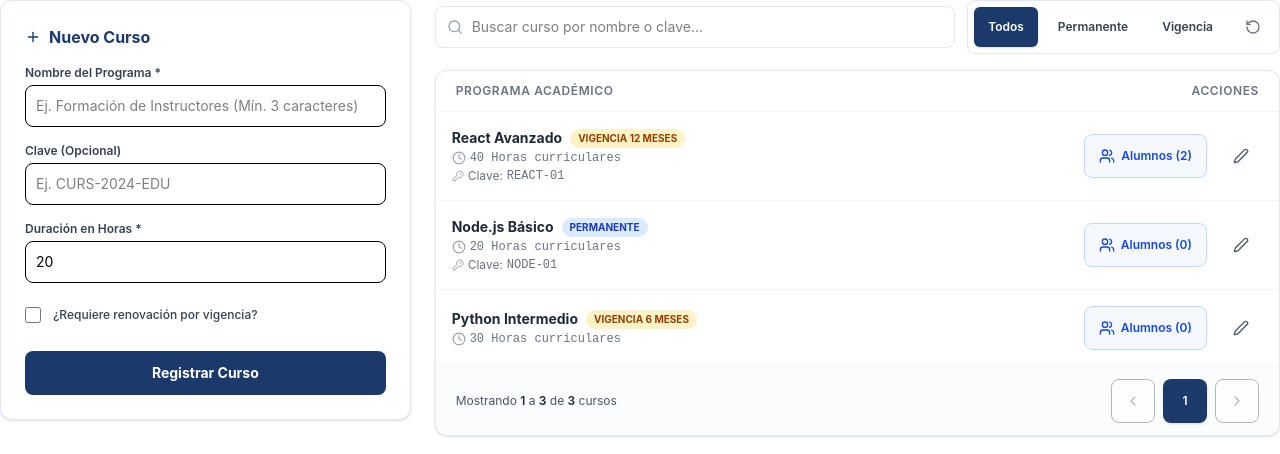
ModuloCursos › listado y filtros › el botón de limpiar filtros restablece búsqueda y filtro de vigencia
In the search field named "buscar cursos": (695, 27) [435,6,955,48], type "python"
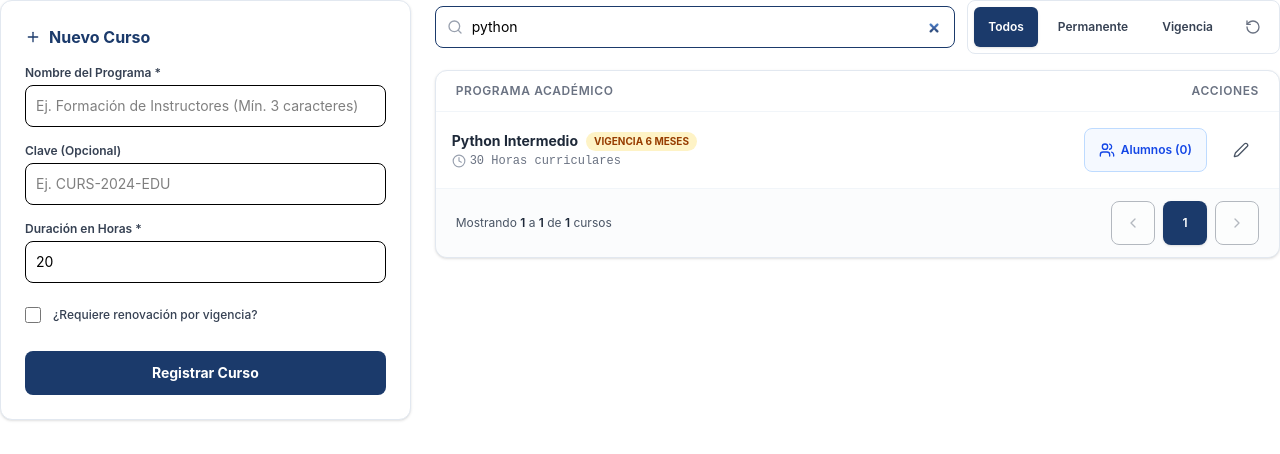
Click the button "vigencia": (1188, 27) [1148,7,1227,47]
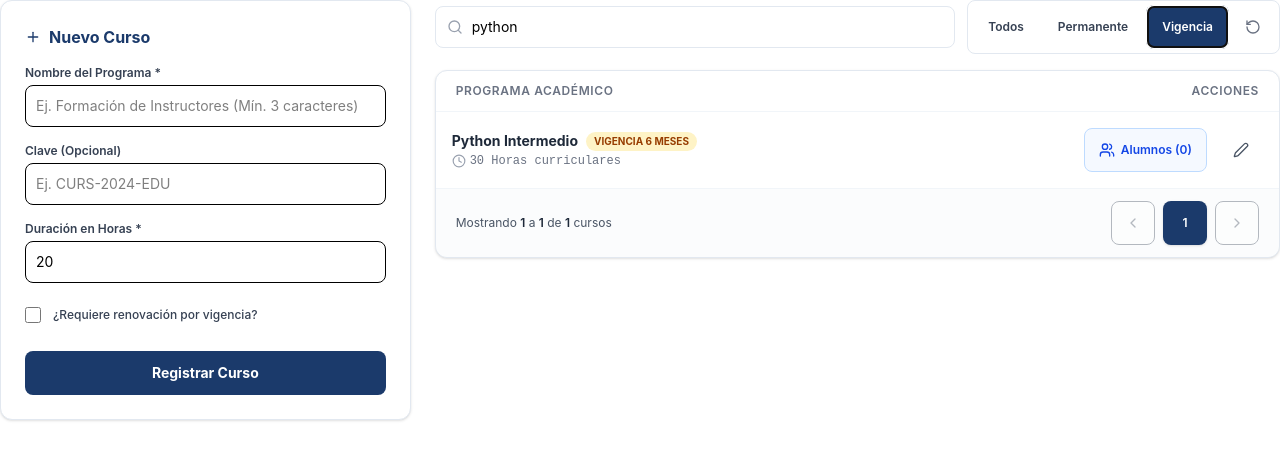
Click the button named "limpiar filtros de cursos": (1253, 27) [1233,7,1273,47]
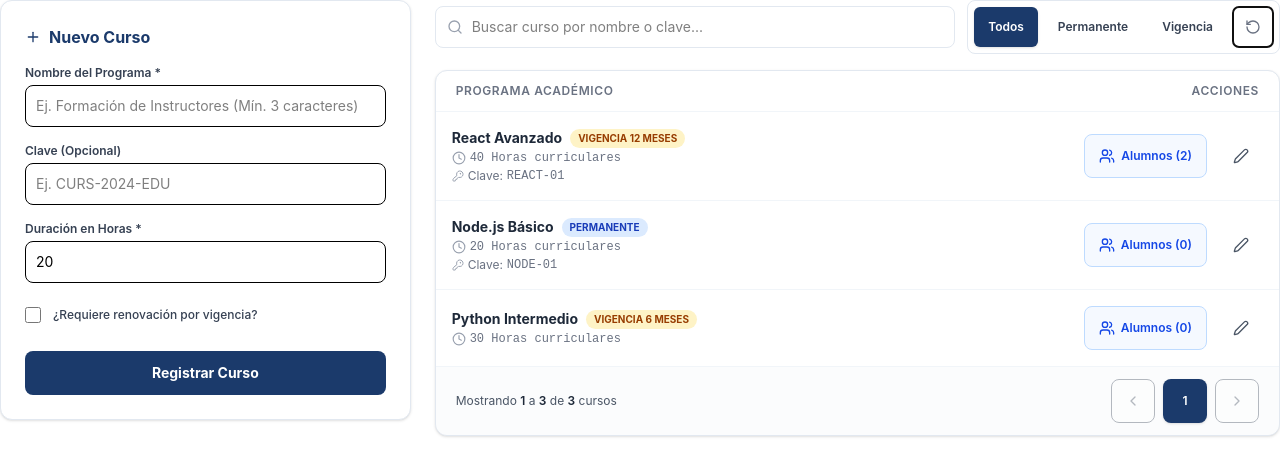
Check: the search field named "buscar cursos" is empty, box [435,6,955,48]
Check: the text "React Avanzado" is shown, box [452,128,562,148]
Check: the text "Node.js Básico" is shown, box [452,217,554,237]
